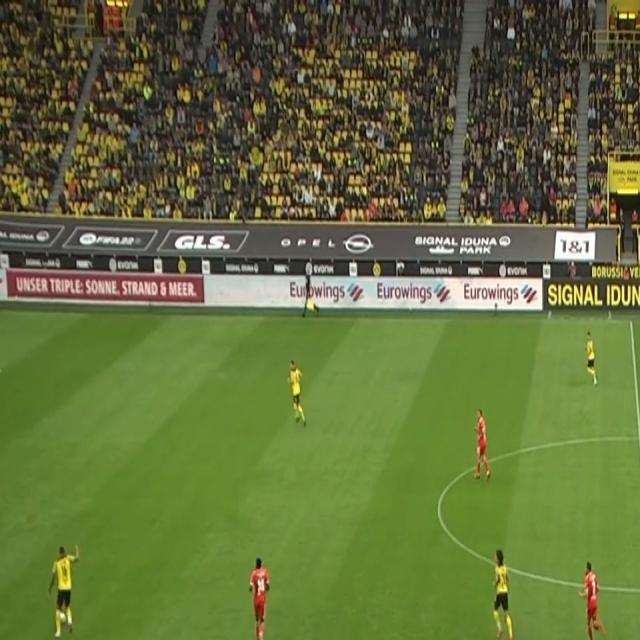ball: (58, 609, 66, 626)
